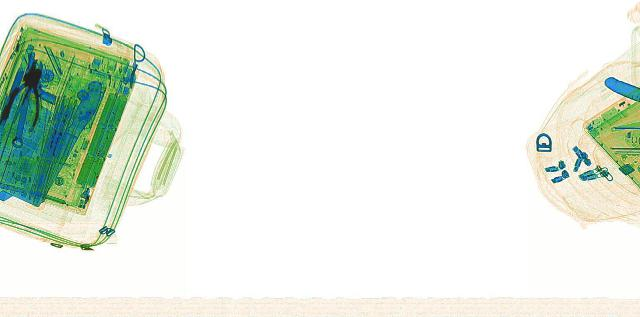Gun: (15, 50, 67, 103)
Knife: (31, 80, 109, 201)
Pliers: (0, 66, 52, 125)
